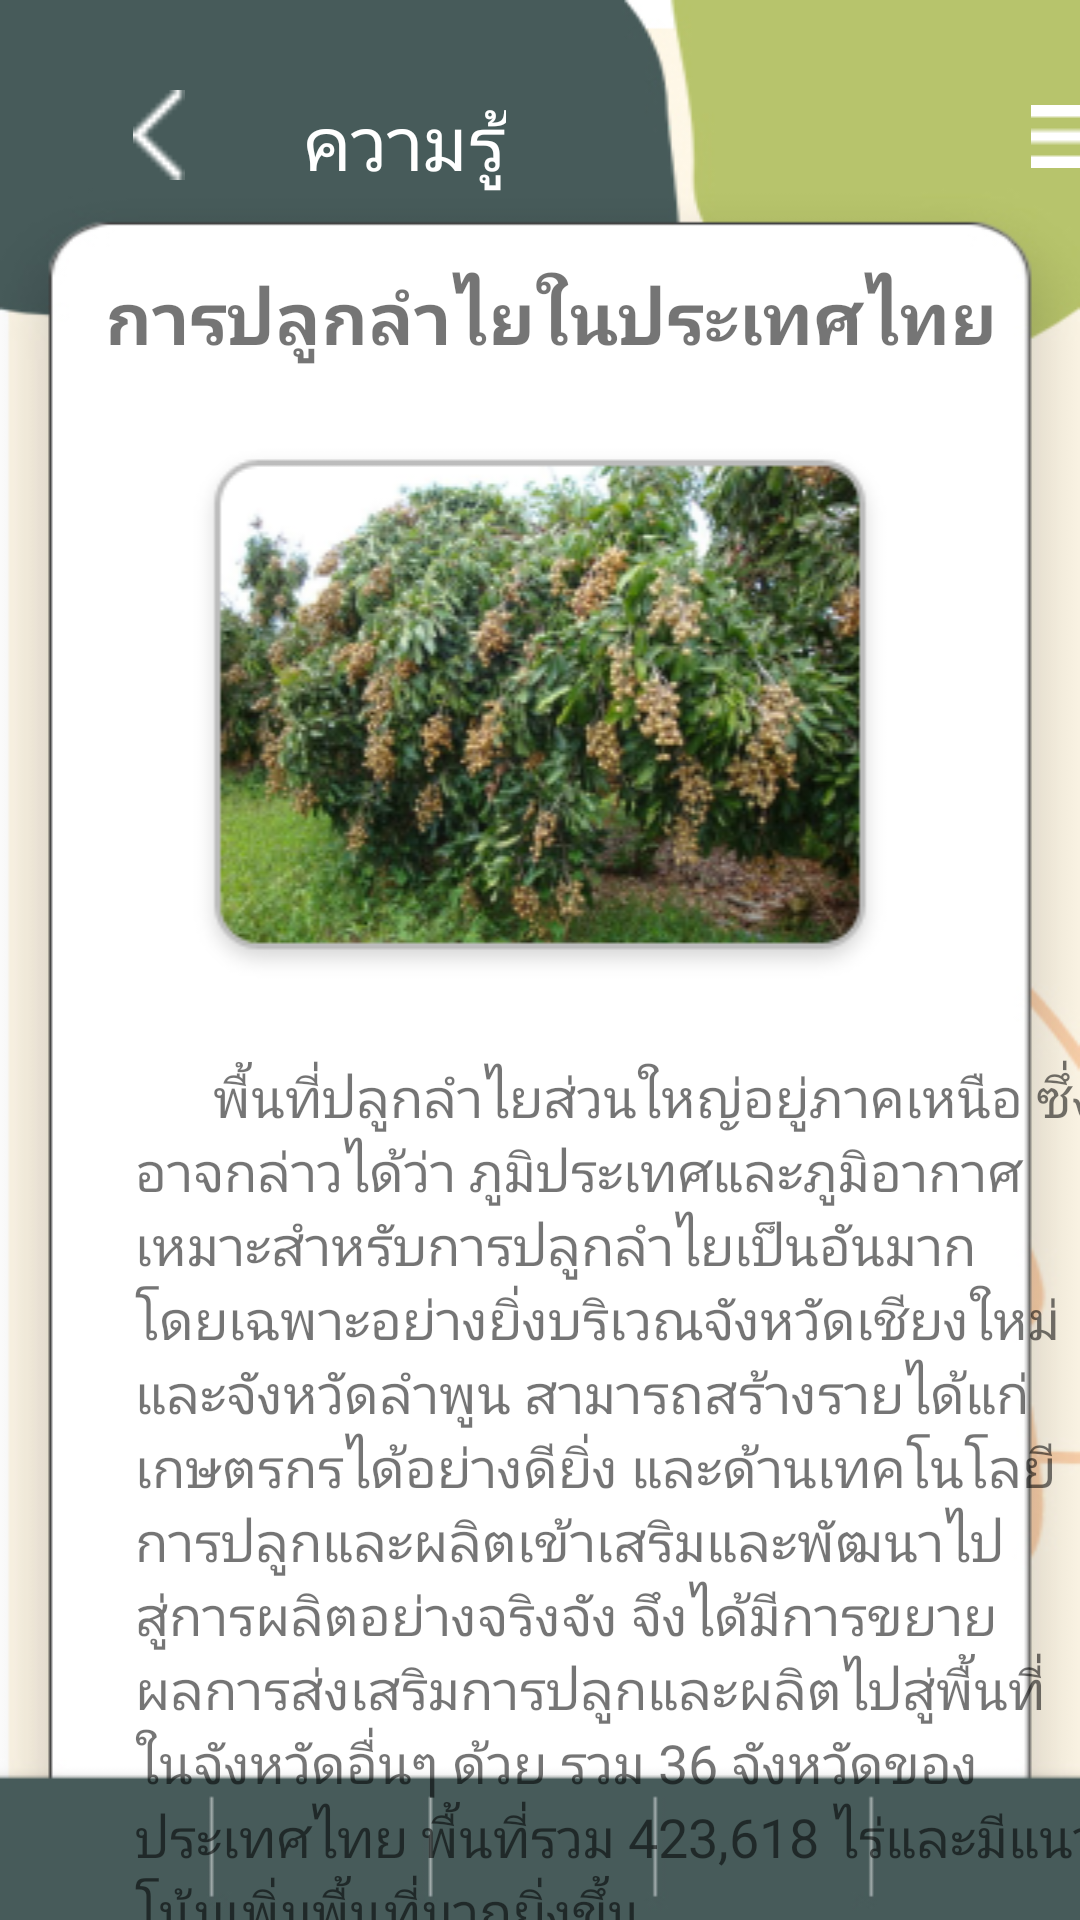

Icon click points for this 1080×1920 phone screenshot, format (x=x, y=y):
menusymbol: (x=1055, y=136)
